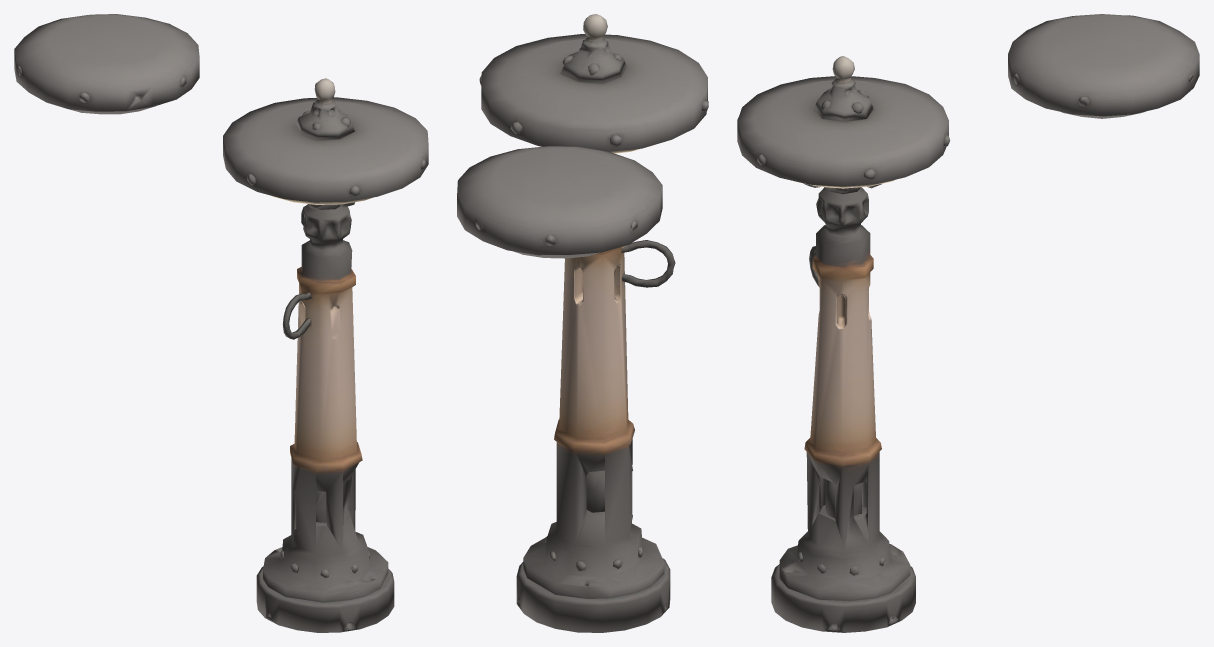
Rendered from camp-lamp.glb.
3 views of the same model, side by side, from view 1: azimuth 30°, elevation 25°; view 2: azimuth 150°, elevation 25°; view 3: azimuth 270°, elevation 25° (orthographic). The views are drawn at different scales.
Visible parts, largest first — view 1: tripo_node_64b899d4-e7e1-4f7d-9b94-16b65c7da6ef; view 2: tripo_node_64b899d4-e7e1-4f7d-9b94-16b65c7da6ef; view 3: tripo_node_64b899d4-e7e1-4f7d-9b94-16b65c7da6ef.
Part boxes in pixels (x1,y1,x2,y2): tripo_node_64b899d4-e7e1-4f7d-9b94-16b65c7da6ef: (14, 14, 428, 632); tripo_node_64b899d4-e7e1-4f7d-9b94-16b65c7da6ef: (457, 14, 708, 632); tripo_node_64b899d4-e7e1-4f7d-9b94-16b65c7da6ef: (737, 14, 1199, 632).
Size of the model in its own units: 0.5215 by 0.998 by 0.7676.
Materials: 1 (1 with a texture image).
